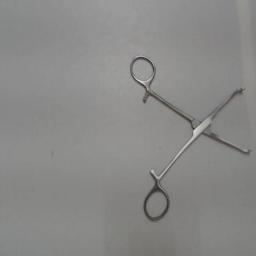Allis Tissue Forceps: (127, 50, 255, 226)
